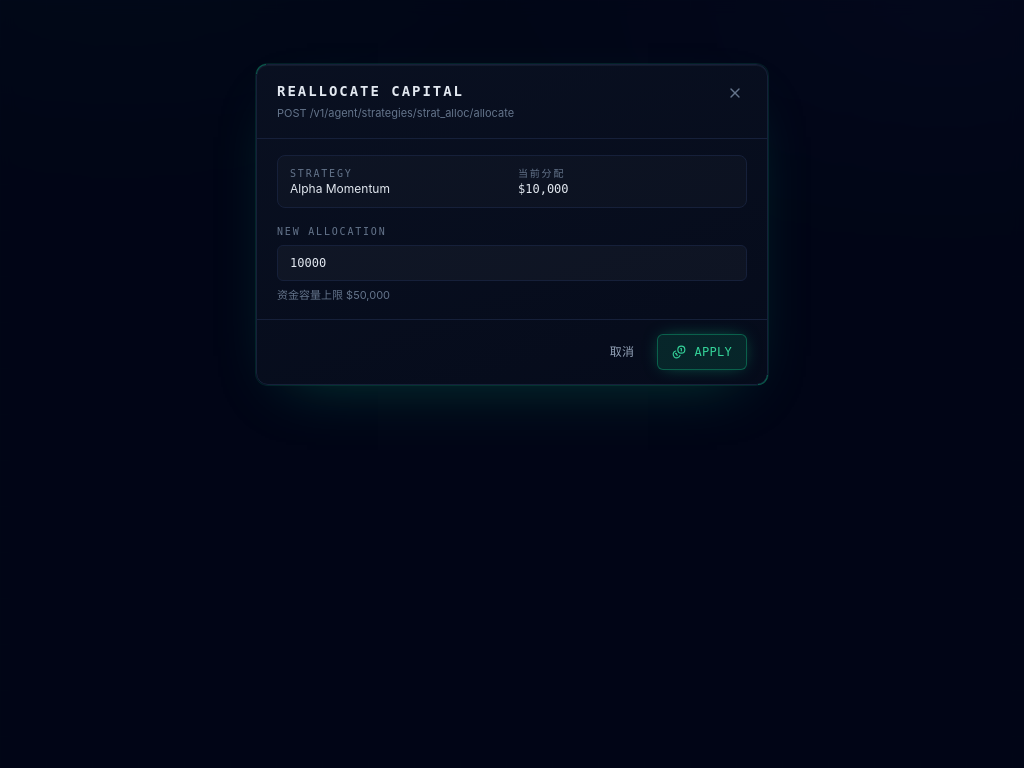
Scenario: AllocateModal › 拒绝超过资金容量的额度
This screenshot has width=1024, height=768.
Replace the text in the field labelled "New Allocation" with "99999": (512, 262) [277,244,747,280]
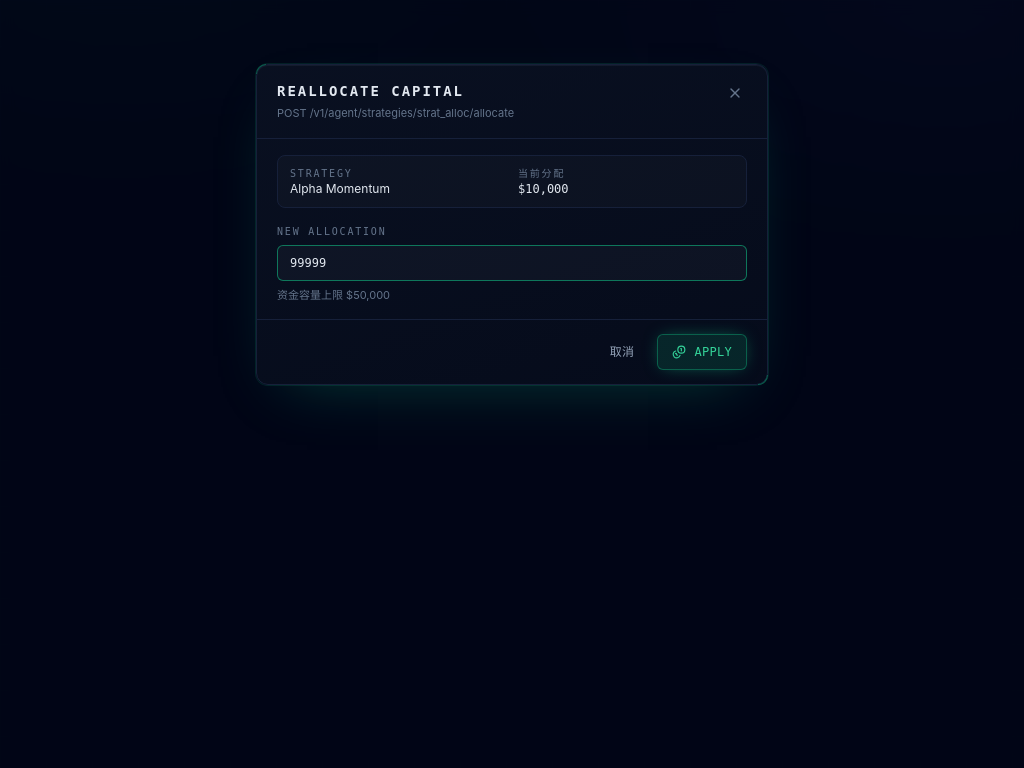
Click the button "APPLY": (702, 352) [657,334,747,370]
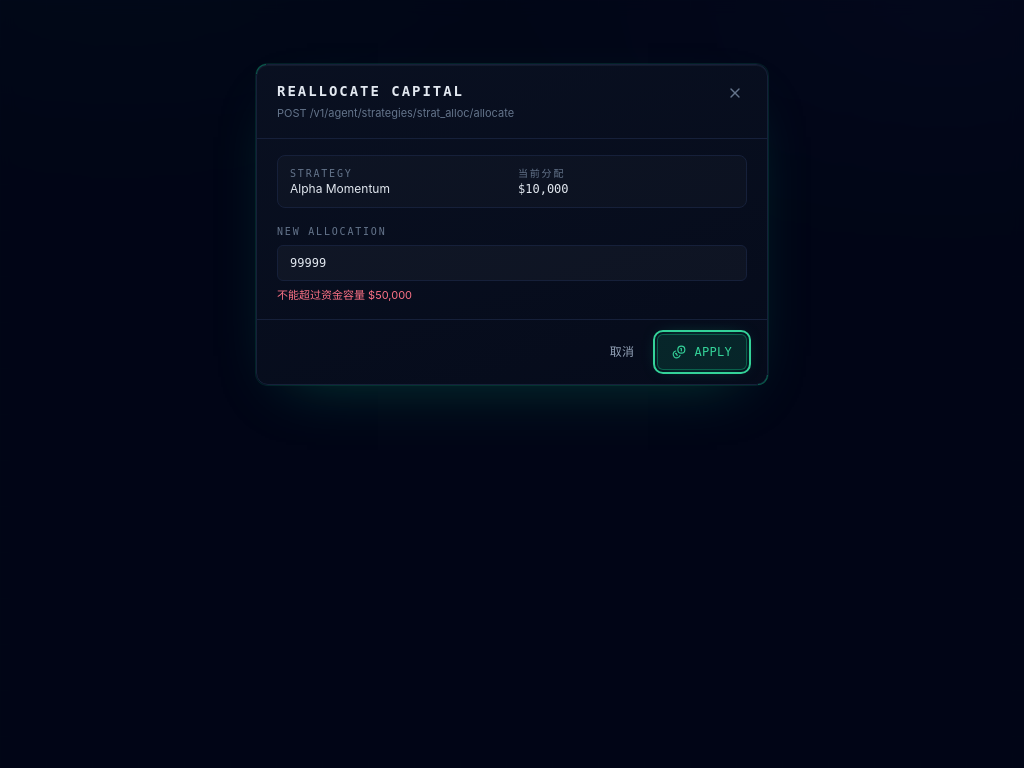
Expected: the text "不能超过资金容量 $50,000" is shown, [277,288,412,302]
